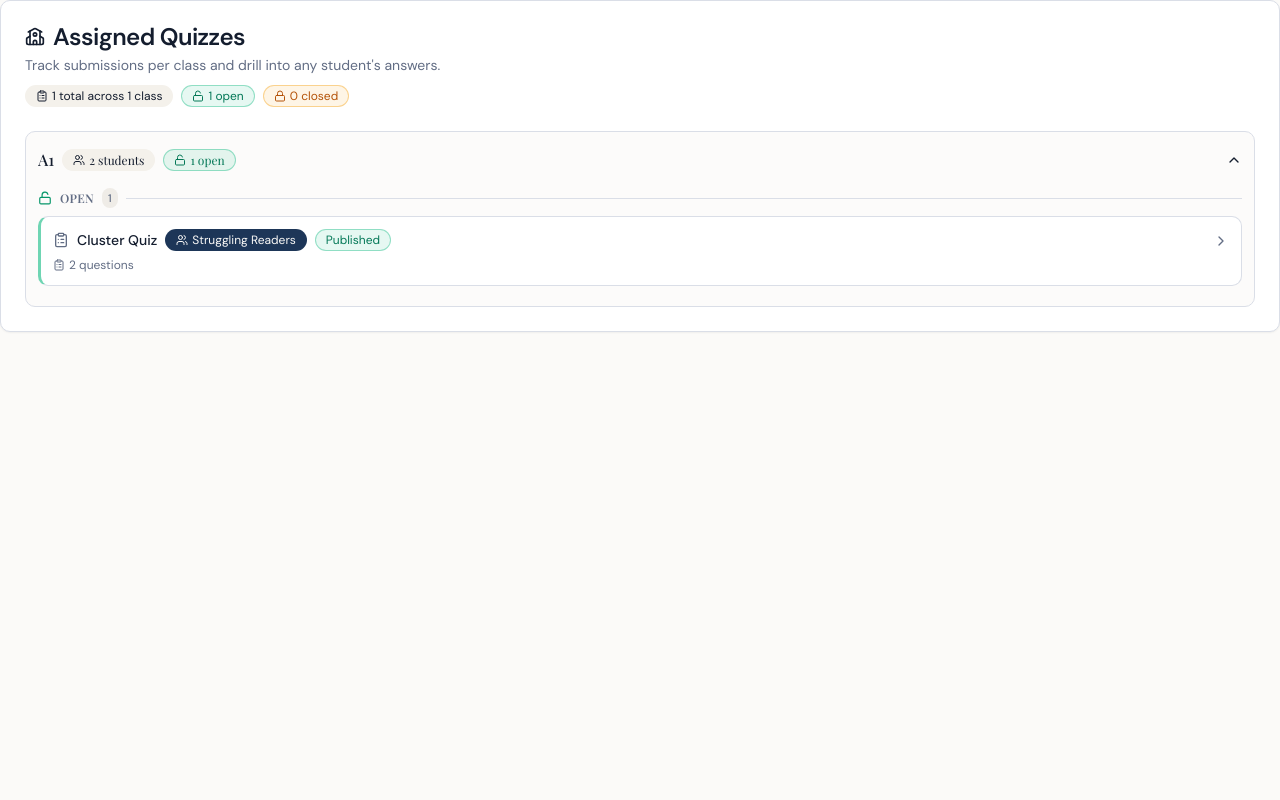
Test case: AssignedQuizzesBoard › labels a cluster assignment and scopes the roster/stats to the group's members
The width and height of the screenshot is (1280, 800).
Expected: the text "A1" is shown, [38,148,54,172]
Expected: the text "Cluster Quiz" is shown, [77,230,157,250]
Expand the card to load stats scoped to the group's members.
Click the button "Cluster Quiz Struggling Readers Published 2 questions" at (117, 240), box [41,217,1241,285]
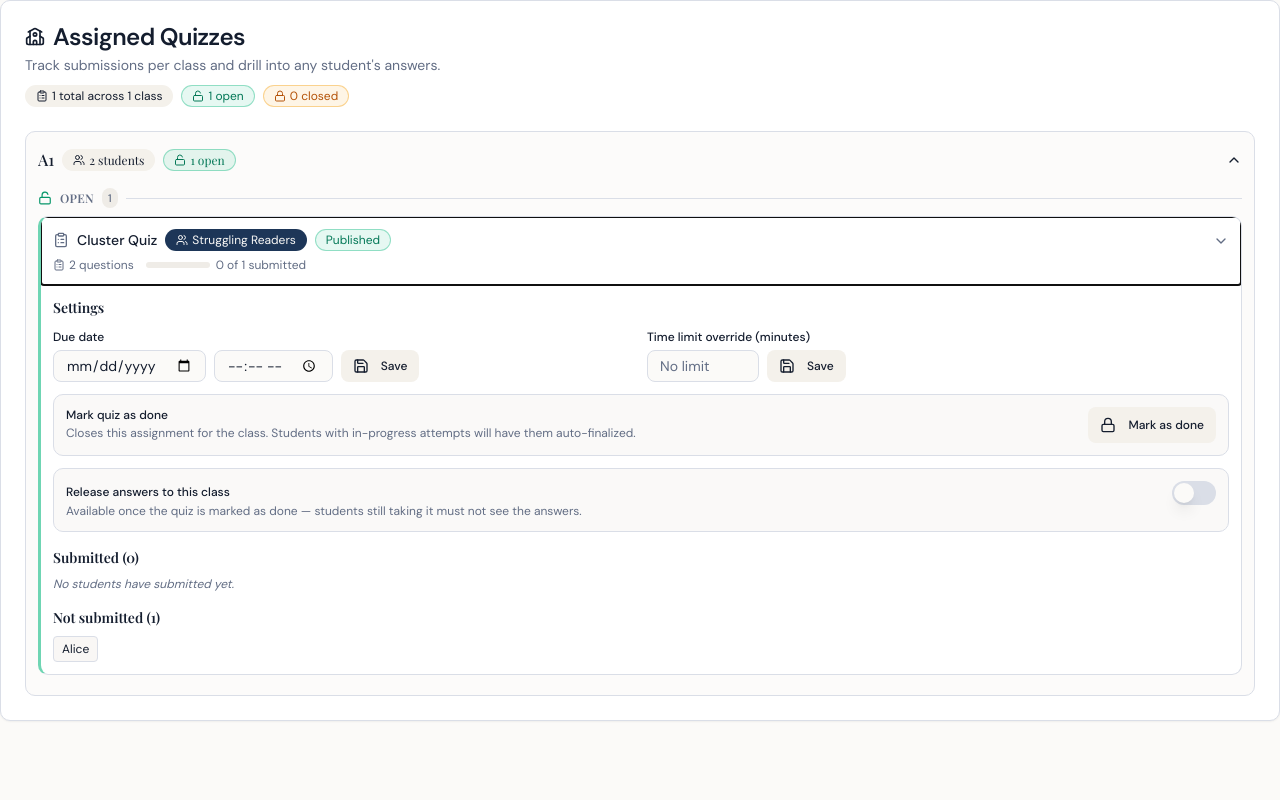
Now the heading "Not submitted (1)" is shown, box [53,608,160,627]
Now the list item "Alice" is shown, box [53,636,98,662]
